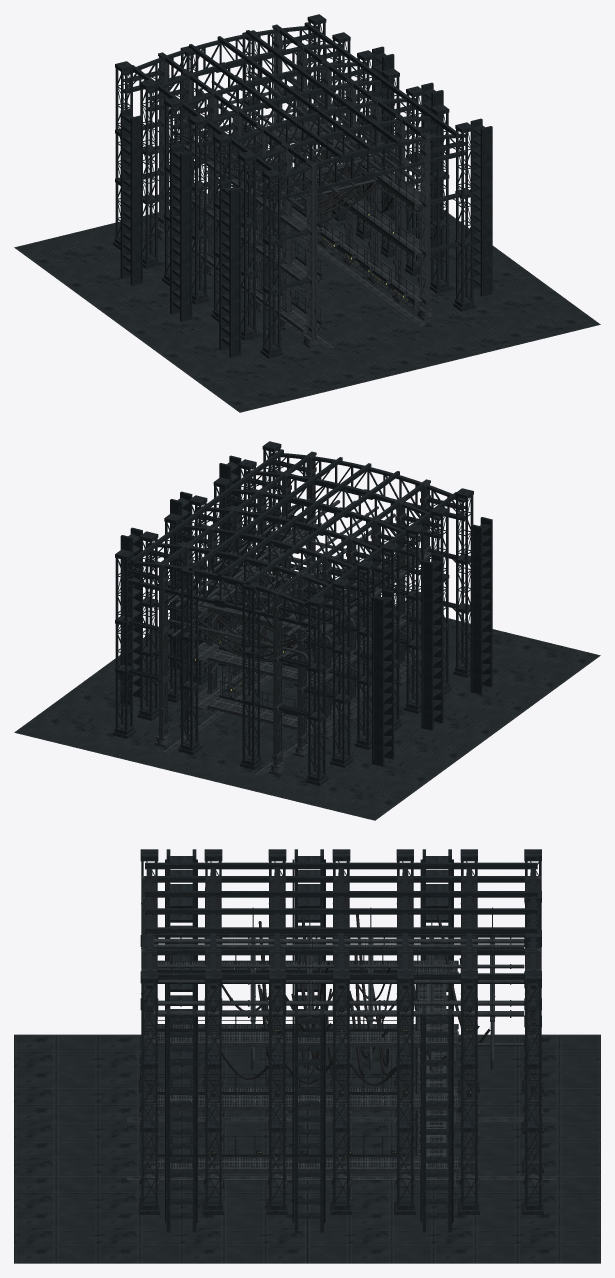
The model's file is arena_structure.glb.
3 views of the same model, one above another, from view 1: azimuth 30°, elevation 25°; view 2: azimuth 150°, elevation 25°; view 3: azimuth 270°, elevation 25° (orthographic). The views are drawn at different scales.
Parts seen in each view (by area): view 1: ArenaFloor, RoofPurlins, OuterServerFrame_L_0, OuterServerFrame_L_1, OuterServerFrame_L_2, OuterServerFrame_R_0, OuterLatticeTower_L_0, RoofPortalTruss_0, OuterLatticeTower_R_0, OuterLatticeTower_L_5, CeilingLongitudinalPipes, OuterLatticeTower_R_1 (+44 smaller); view 2: ArenaFloor, RoofPurlins, OuterServerFrame_L_0, OuterServerFrame_L_1, OuterServerFrame_L_2, OuterLatticeTower_L_6, OuterLatticeTower_L_5, RearLatticeGirder_L, OuterLatticeTower_R_6, RearLatticeGirder_R, RoofPortalTruss_6, OuterLatticeTower_L_2 (+38 smaller); view 3: ArenaFloor, RoofPurlins, CeilingLongitudinalPipes, OuterServerFrame_R_1, OuterServerFrame_R_2, OuterServerFrame_R_0, HangingCableBundles, OuterLatticeTower_R_0, OuterLatticeTower_R_1, OuterLatticeTower_R_3, OuterLatticeTower_R_2, OuterLatticeTower_R_6 (+42 smaller).
Boxes of the visible parts, left/top/right/bottom form: ArenaFloor: left=14, top=167, right=600, bottom=412; RoofPurlins: left=132, top=22, right=458, bottom=179; OuterServerFrame_L_0: left=219, top=180, right=241, bottom=357; OuterServerFrame_L_1: left=170, top=144, right=192, bottom=321; OuterServerFrame_L_2: left=120, top=108, right=142, bottom=285; OuterServerFrame_R_0: left=470, top=118, right=492, bottom=296; OuterLatticeTower_L_0: left=260, top=169, right=283, bottom=358; RoofPortalTruss_0: left=271, top=133, right=465, bottom=201; OuterLatticeTower_R_0: left=453, top=122, right=475, bottom=311; OuterLatticeTower_L_5: left=139, top=79, right=160, bottom=268; CeilingLongitudinalPipes: left=161, top=71, right=421, bottom=211; OuterLatticeTower_R_1: left=430, top=104, right=451, bottom=293; ArenaFloor: left=14, top=578, right=600, bottom=820; RoofPurlins: left=130, top=449, right=456, bottom=606; OuterServerFrame_L_0: left=470, top=517, right=492, bottom=694; OuterServerFrame_L_1: left=421, top=553, right=443, bottom=730; OuterServerFrame_L_2: left=372, top=589, right=394, bottom=766; OuterLatticeTower_L_6: left=305, top=596, right=328, bottom=785; OuterLatticeTower_L_5: left=330, top=578, right=352, bottom=767; RearLatticeGirder_L: left=240, top=581, right=262, bottom=769; OuterLatticeTower_R_6: left=113, top=549, right=135, bottom=738; RearLatticeGirder_R: left=178, top=565, right=201, bottom=754; RoofPortalTruss_6: left=123, top=560, right=317, bottom=628; OuterLatticeTower_L_2: left=404, top=524, right=424, bottom=713; ArenaFloor: left=14, top=1034, right=600, bottom=1263; RoofPurlins: left=145, top=862, right=537, bottom=979; CeilingLongitudinalPipes: left=154, top=934, right=524, bottom=1046; OuterServerFrame_R_1: left=292, top=1008, right=325, bottom=1232; OuterServerFrame_R_2: left=420, top=1008, right=453, bottom=1232; OuterServerFrame_R_0: left=165, top=1008, right=197, bottom=1232; HangingCableBundles: left=221, top=914, right=490, bottom=1085; OuterLatticeTower_R_0: left=138, top=971, right=160, bottom=1214; OuterLatticeTower_R_1: left=202, top=971, right=224, bottom=1214; OuterLatticeTower_R_3: left=330, top=971, right=352, bottom=1214; OuterLatticeTower_R_2: left=266, top=971, right=288, bottom=1214; OuterLatticeTower_R_6: left=522, top=971, right=543, bottom=1214.
Size of the model in its own units: 24 by 11.74 by 26.
Materials: 6 (5 with a texture image).
